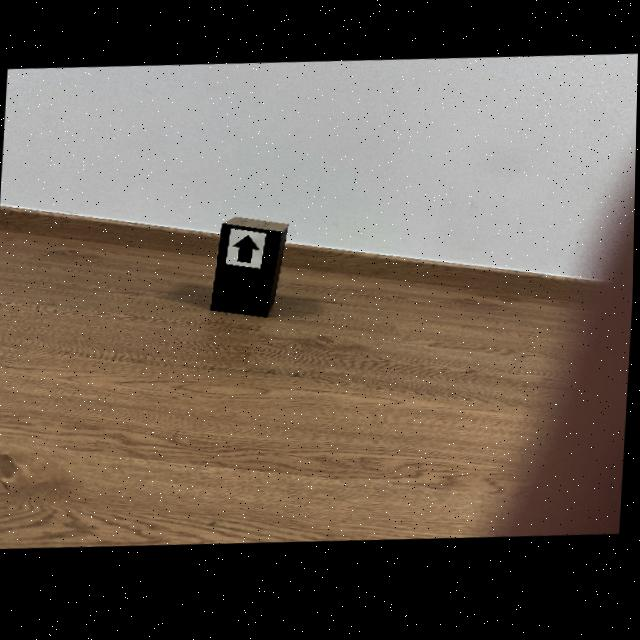UP: (234, 239, 259, 266)
